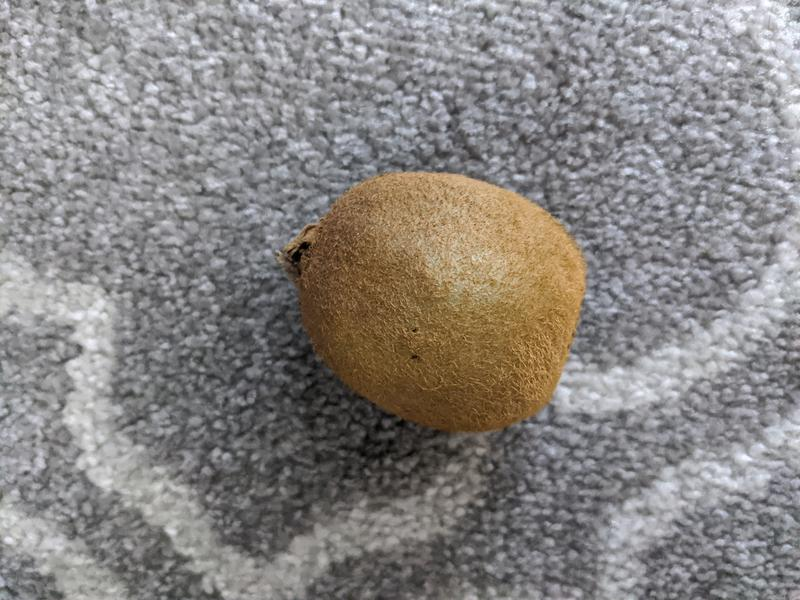kiwi: (299, 171, 586, 434)
